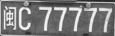C: (19, 7, 31, 30)
